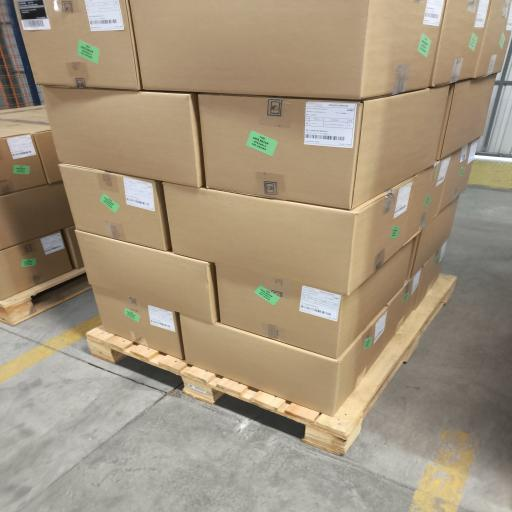pallet: (87, 275, 456, 454), (0, 268, 91, 325)
